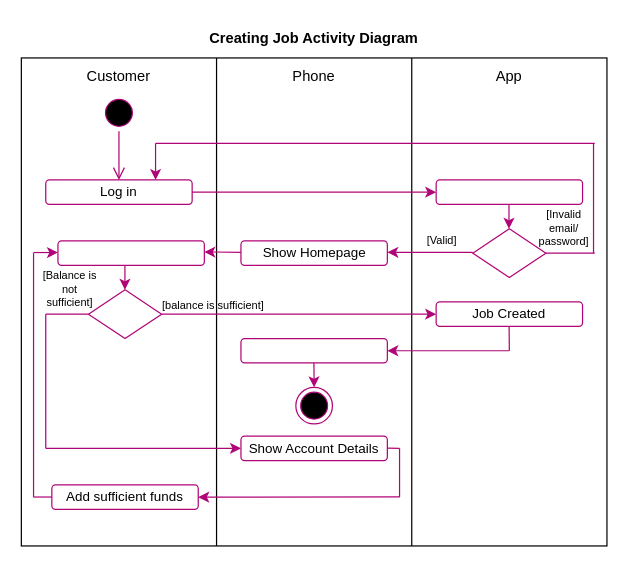
This 628x569 diagram has some shape labels left out. The shapes that lost their labels are listed below. From the top down, each one's box as (x1, y1, x2, y2) in pixels, then its label:
(435, 179, 583, 204): Authorize
(57, 240, 204, 265): Create Job
(240, 337, 387, 363): Job Posted
